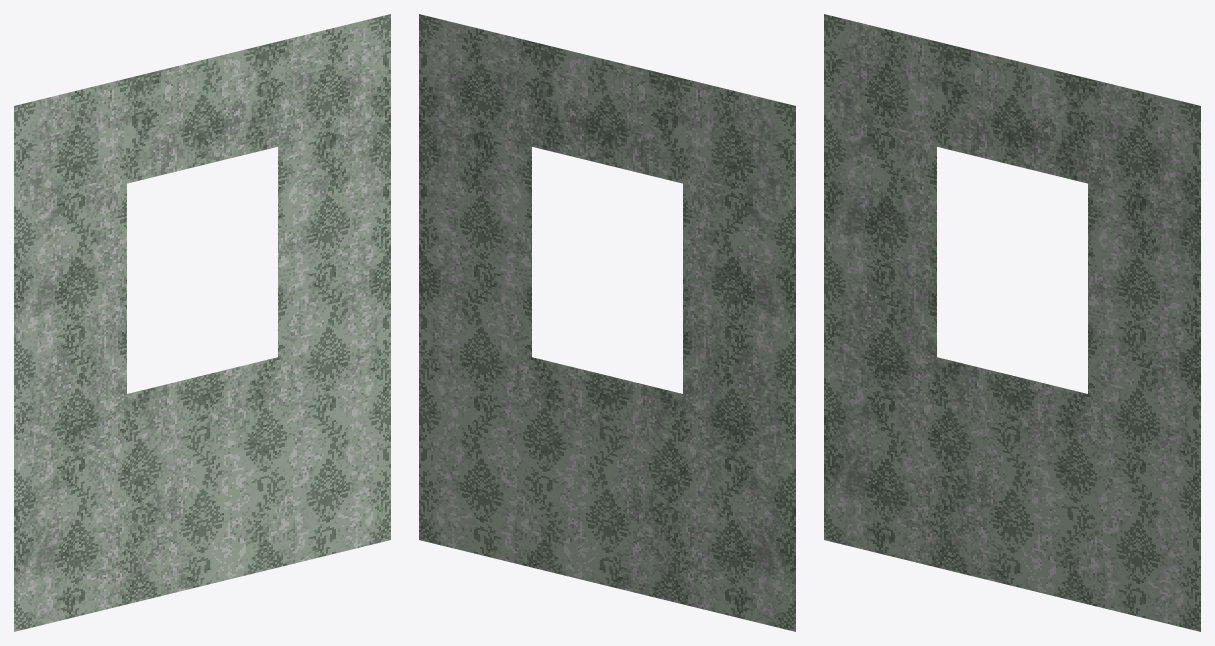
The model's file is Modular_Surface_06.glb.
The picture shows the model from 3 angles, left to right: view 1: azimuth 30°, elevation 25°; view 2: azimuth 150°, elevation 25°; view 3: azimuth 330°, elevation 25°; orthographic projection.
Visible parts, largest first — view 1: Modular_Surface_06; view 2: Modular_Surface_06; view 3: Modular_Surface_06.
Part boxes in pixels (x1=…): Modular_Surface_06: x1=14, y1=14, x2=390, y2=631; Modular_Surface_06: x1=419, y1=14, x2=795, y2=631; Modular_Surface_06: x1=824, y1=14, x2=1200, y2=631.
Size of the model in its own units: 2.25 by 3 by 1.31e-07.
Materials: 1 (1 with a texture image).
